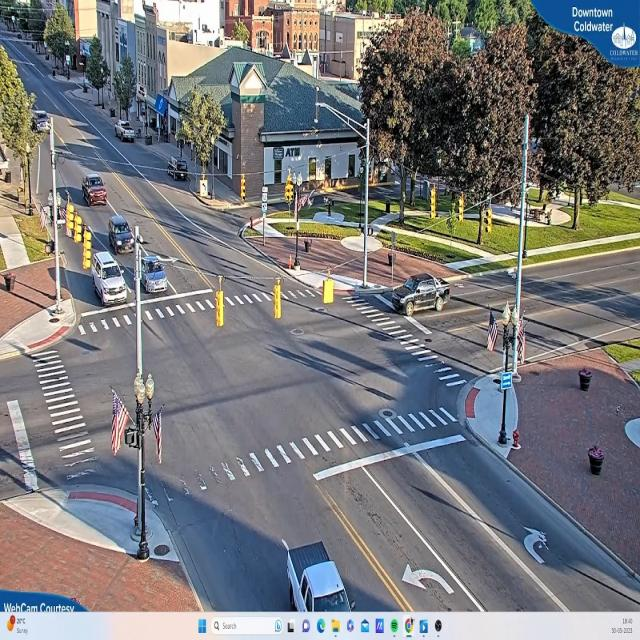car: (284, 540, 356, 612), (394, 274, 448, 310), (140, 255, 171, 297), (110, 217, 134, 253), (82, 175, 107, 208), (586, 443, 606, 475), (164, 158, 190, 180), (116, 123, 135, 142)
